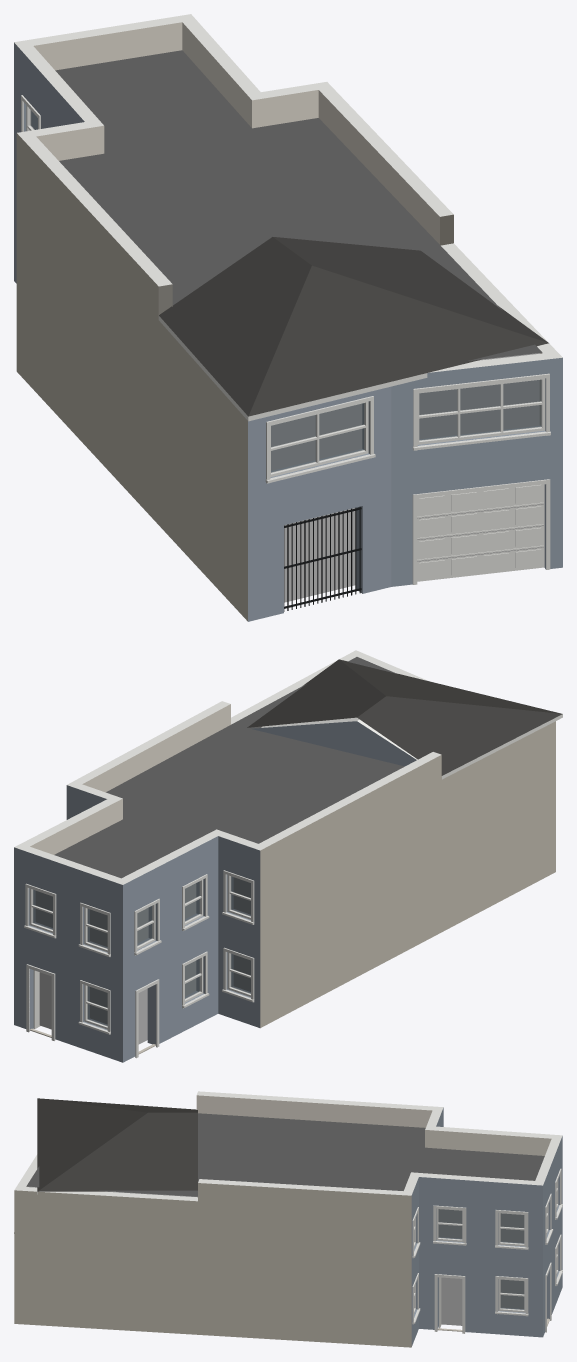
The model's file is exterior.glb.
3 renders of one model, top to bottom at view 1: azimuth 30°, elevation 25°; view 2: azimuth 150°, elevation 25°; view 3: azimuth 270°, elevation 25°, orthographic. The views are drawn at different scales.
Parts seen in each view (by area): view 1: shell, roof, doors, shadow-proxy, glazing, trim, frames; view 2: shell, roof, trim, shadow-proxy, glazing, gable, frames, doors; view 3: shell, roof, trim, shadow-proxy, glazing, frames.
Boxes of the visible parts, box(x1,y1,x2,y2) form: shell: box(14, 14, 562, 621); roof: box(55, 50, 548, 421); doors: box(284, 479, 550, 611); shadow-proxy: box(271, 353, 539, 602); glazing: box(30, 110, 541, 472); trim: box(21, 95, 550, 483); frames: box(26, 105, 545, 477); shell: box(14, 650, 555, 1062); roof: box(54, 657, 562, 878); trim: box(24, 870, 254, 1058); shadow-proxy: box(36, 877, 250, 1044); glazing: box(33, 876, 250, 1025); gable: box(251, 721, 416, 766); frames: box(29, 875, 250, 1029); doors: box(29, 970, 155, 1054); shell: box(14, 1091, 562, 1347); roof: box(26, 1098, 544, 1196); trim: box(14, 1168, 562, 1333); shadow-proxy: box(28, 1186, 523, 1325); glazing: box(438, 1209, 524, 1309); frames: box(414, 1180, 558, 1313).
Bounding box in the file's own units: 9.75 × 6.57 × 19.56.
